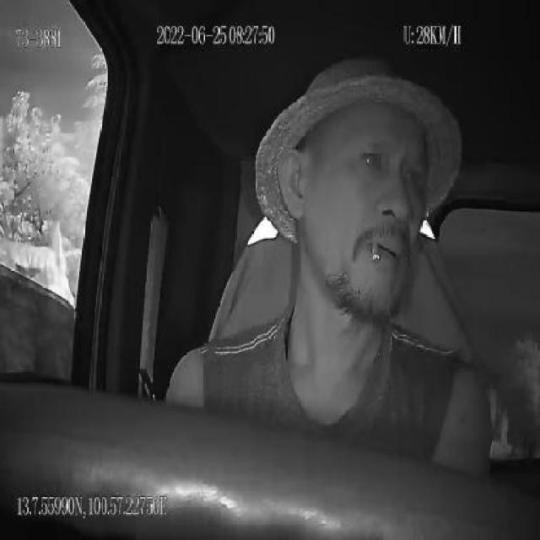smoking: (368, 238, 381, 267)
